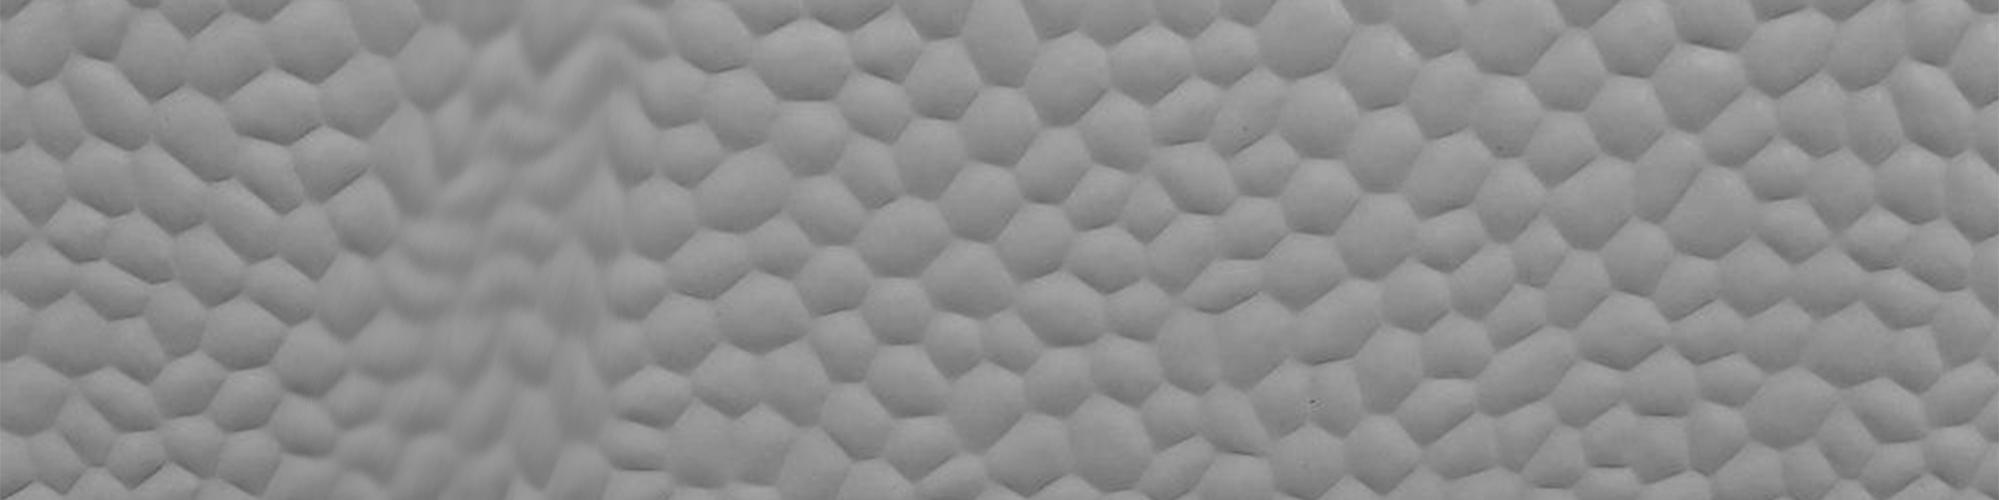Flow_Lines: (388, 32, 643, 500)
